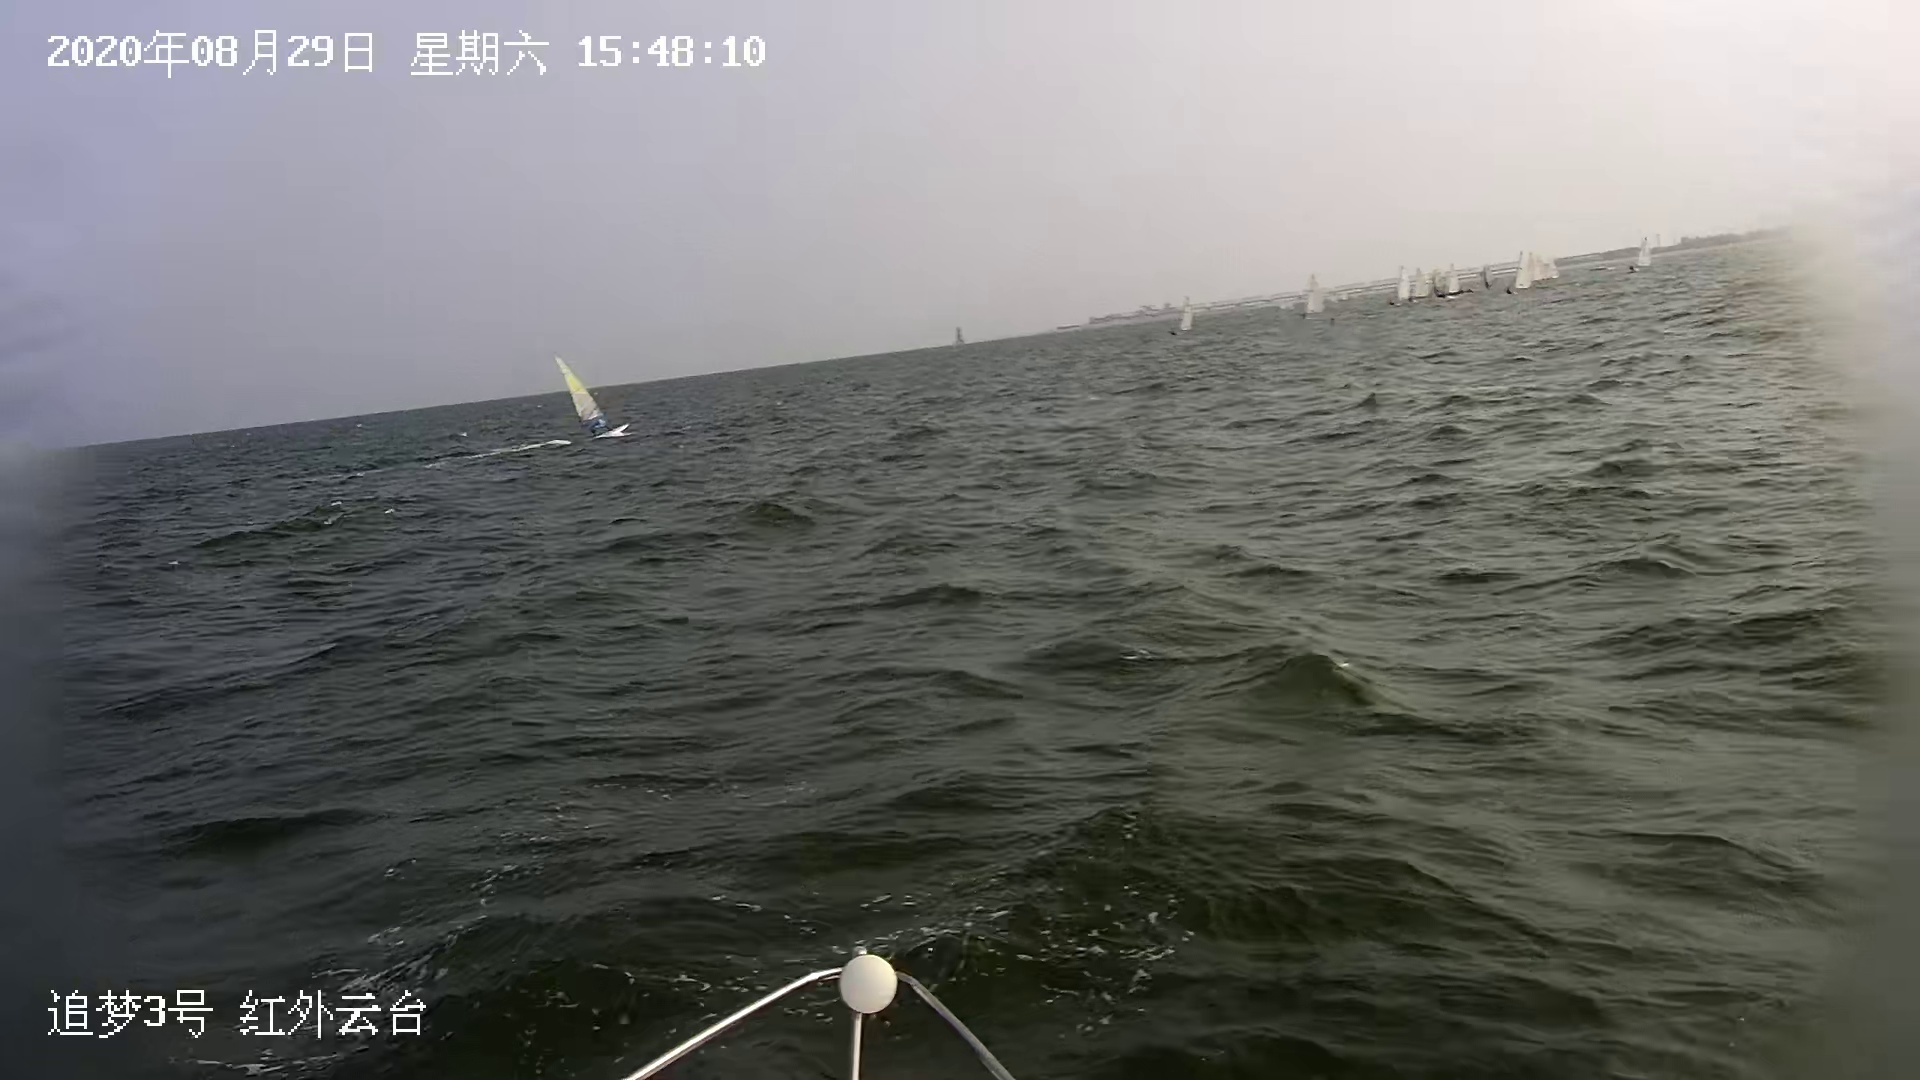barrier: (549, 355, 628, 440), (1303, 274, 1332, 322), (1532, 251, 1559, 287), (1447, 258, 1472, 295), (1513, 247, 1532, 291), (1635, 228, 1652, 272), (1178, 294, 1196, 334), (1393, 264, 1408, 306), (1414, 262, 1431, 301), (1433, 258, 1447, 297), (952, 324, 968, 353), (1484, 264, 1499, 289)
coast: (1048, 208, 1920, 336)
